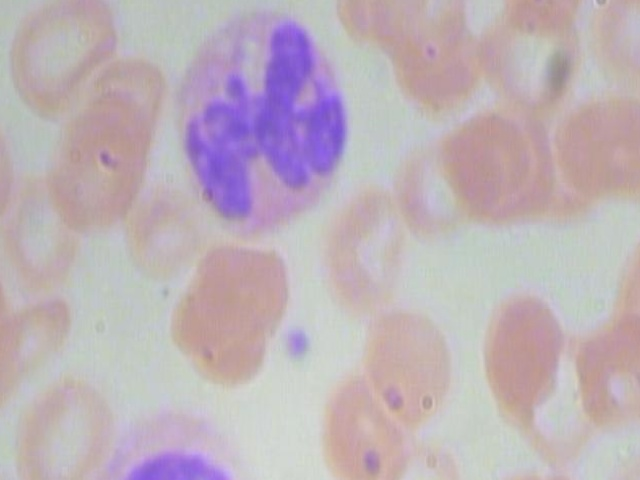Platelets: (276, 323, 312, 365)
WBC: (161, 0, 364, 242), (65, 404, 277, 480)
